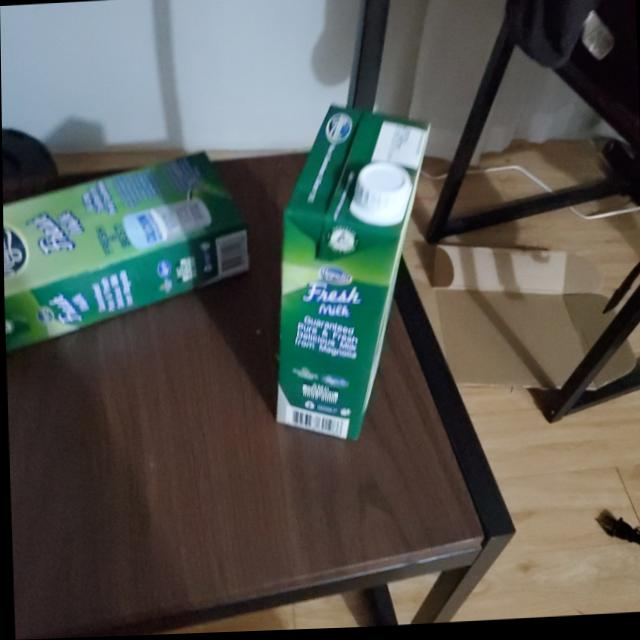milk: (256, 102, 437, 447), (2, 149, 248, 348)
